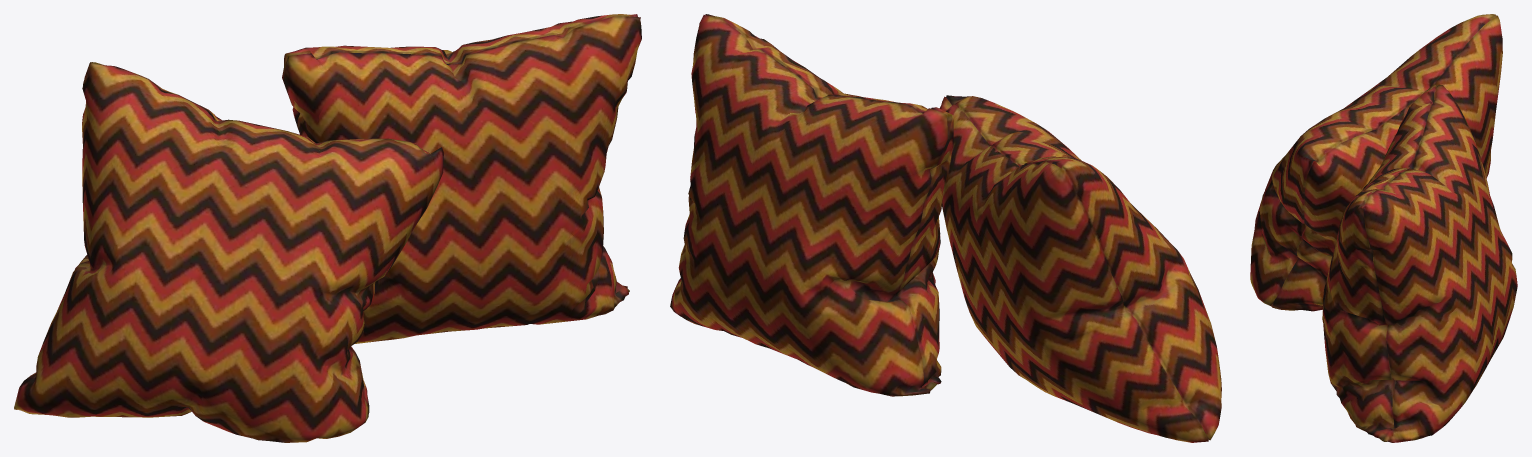
The model's file is throw_pillows_01.glb.
The picture shows the model from 3 angles, left to right: view 1: azimuth 30°, elevation 25°; view 2: azimuth 150°, elevation 25°; view 3: azimuth 270°, elevation 25°; orthographic projection. The views are drawn at different scales.
Visible parts, largest first — view 1: throw_pillows_01_pillow02; view 2: throw_pillows_01_pillow02; view 3: throw_pillows_01_pillow02.
Boxes of the visible parts, x1=… form: throw_pillows_01_pillow02: x1=14, y1=14, x2=641, y2=442; throw_pillows_01_pillow02: x1=670, y1=14, x2=1221, y2=442; throw_pillows_01_pillow02: x1=1250, y1=14, x2=1517, y2=442.
Size of the model in its own units: 0.9401 by 0.4502 by 0.4519.
Materials: 1 (1 with a texture image).
